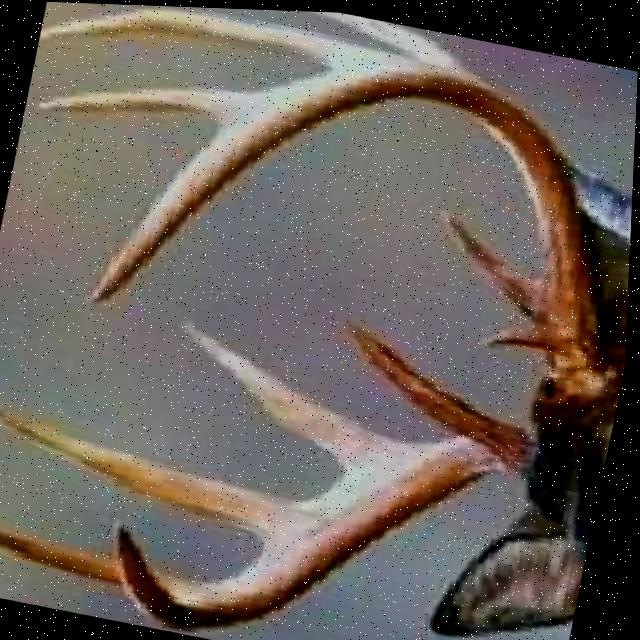L-F: (117, 418, 539, 634)
L-G1: (345, 316, 511, 433)
L-G2: (184, 316, 421, 473)
L-G3: (0, 399, 315, 541)
R-F: (83, 56, 611, 402)
R-G1: (484, 321, 549, 347)
R-G2: (439, 205, 546, 320)
R-G3: (298, 9, 469, 64)
R-G4: (39, 4, 385, 67)
R-G5: (35, 81, 258, 125)
